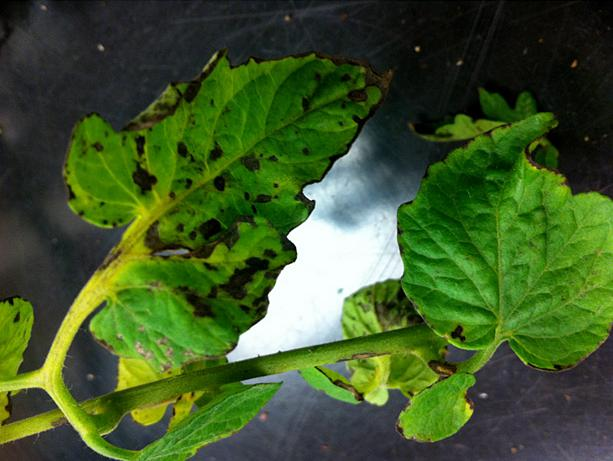Tomato leaf bacterial spot: (37, 55, 394, 363), (385, 80, 608, 367)
